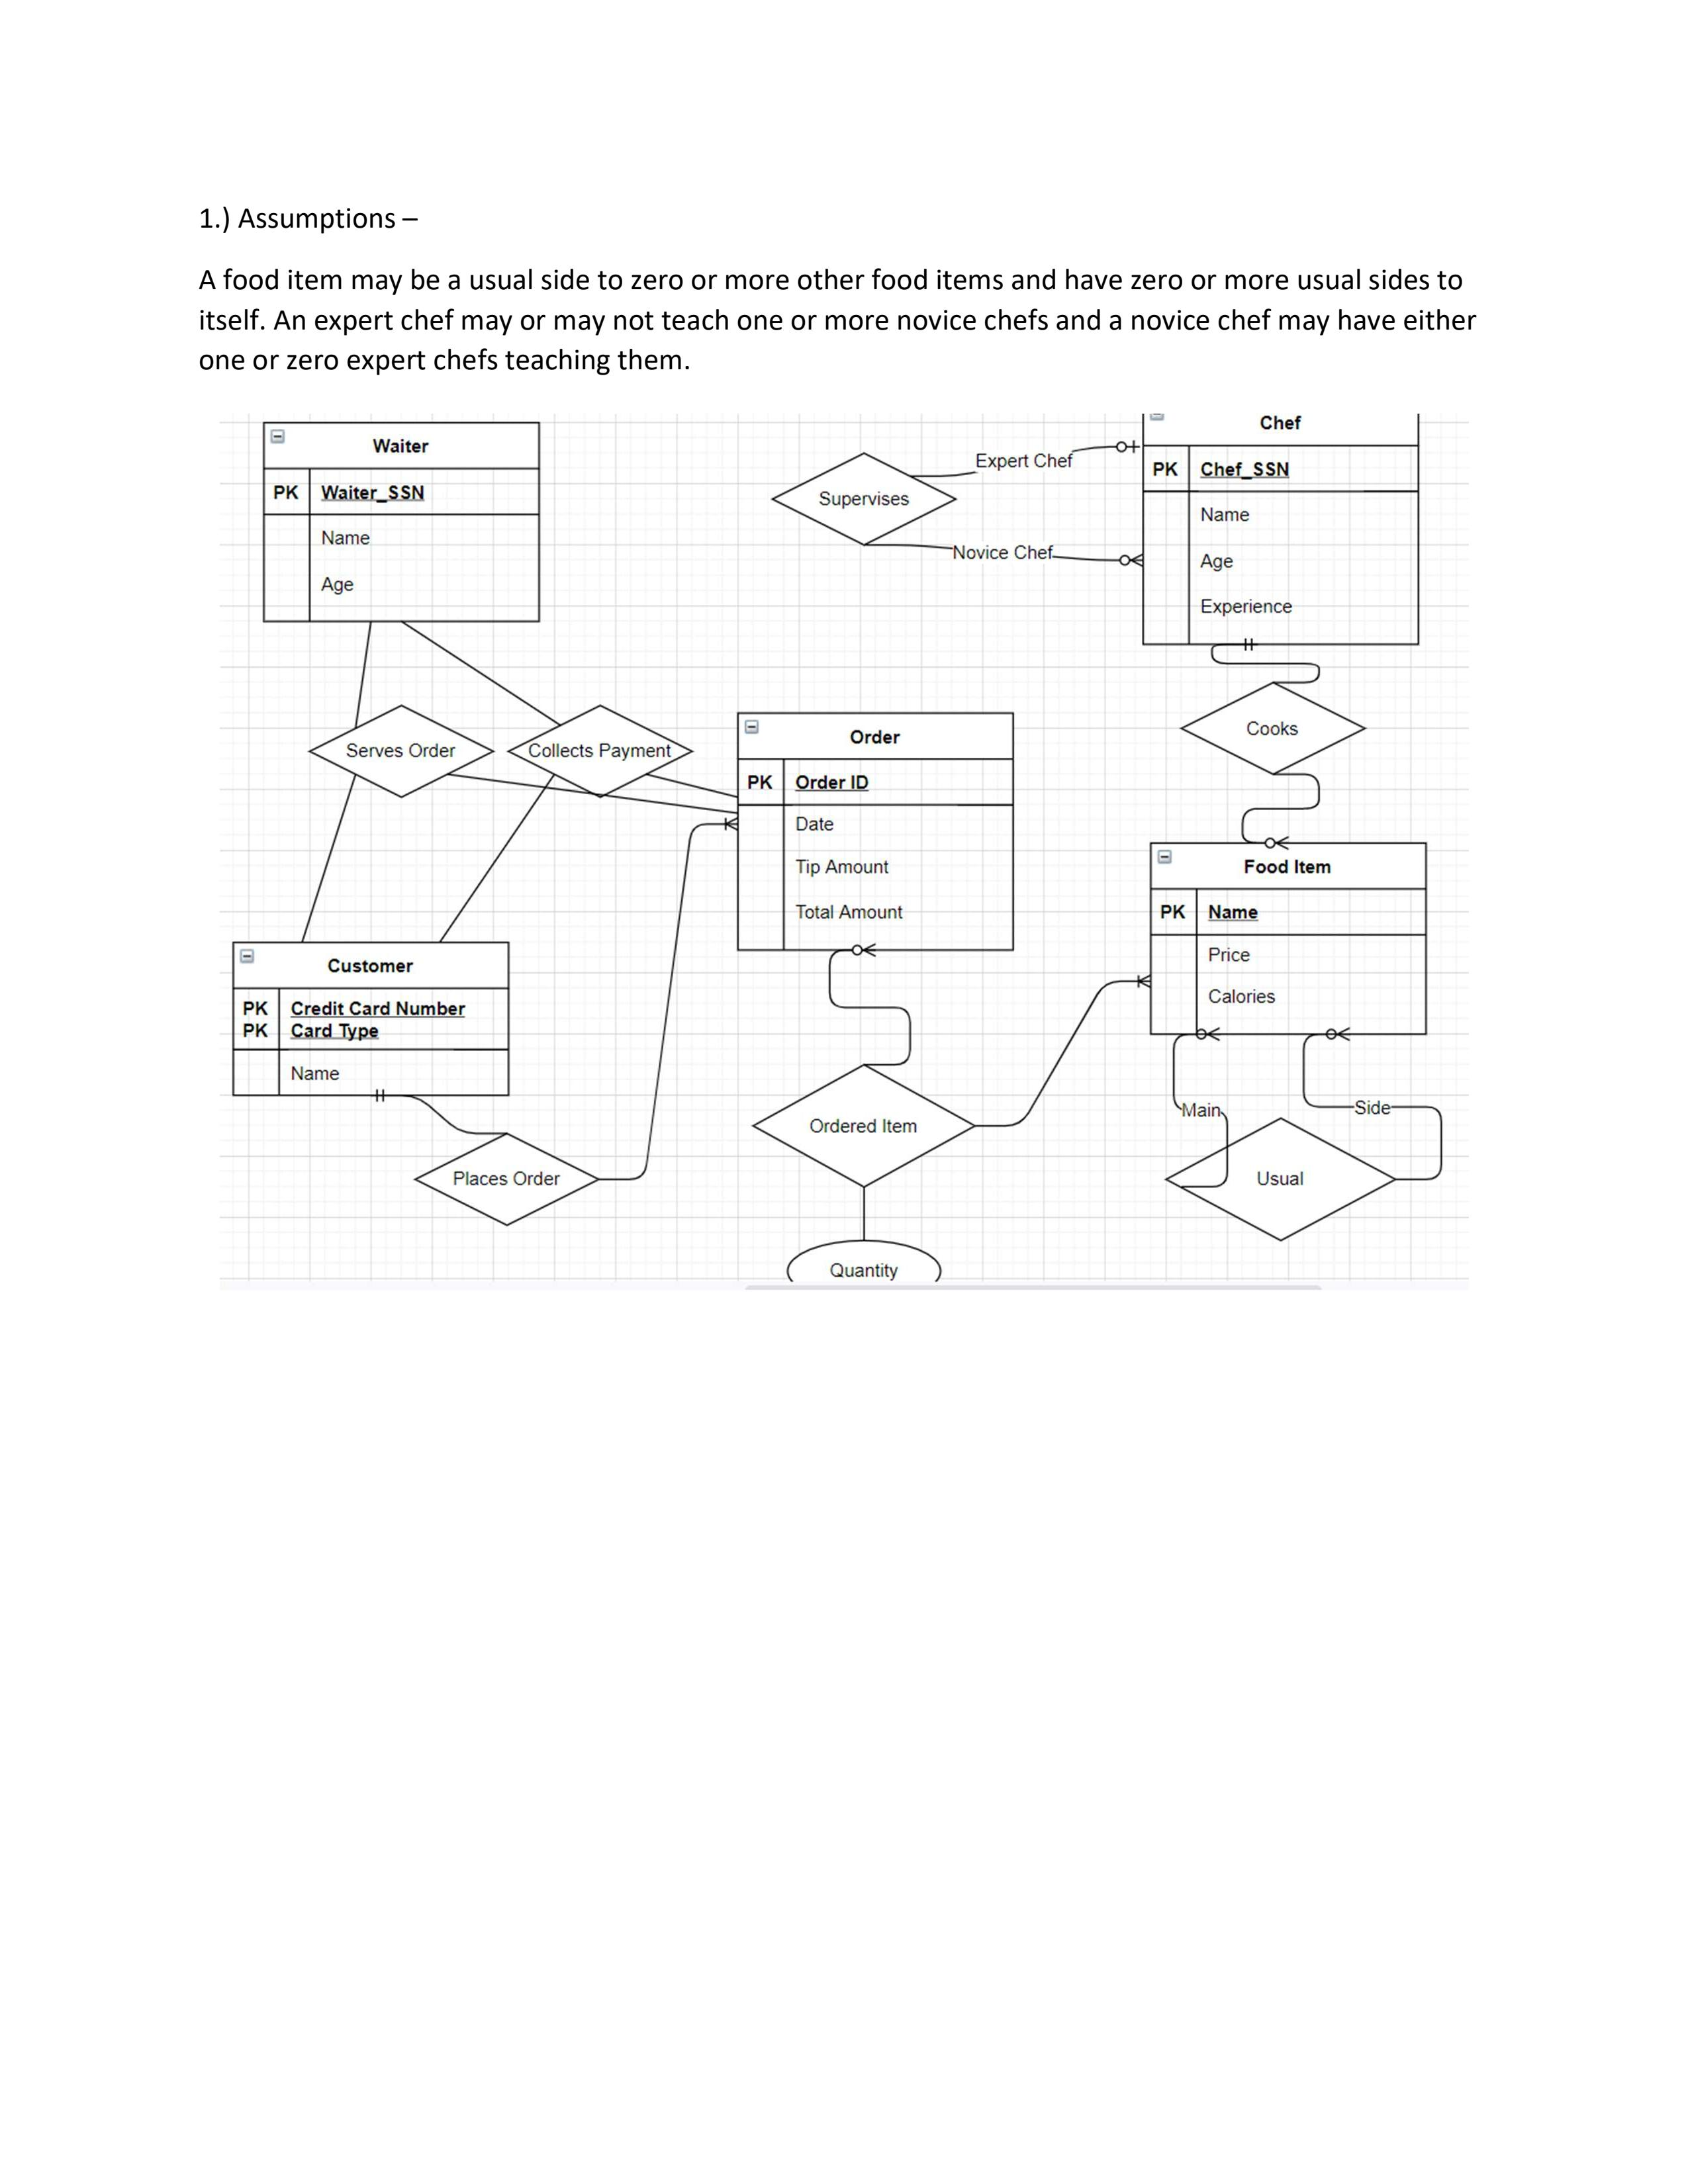Attribute: (787, 1239, 943, 1287)
Entity: (734, 707, 1020, 952), (1140, 406, 1422, 647), (261, 418, 544, 629), (1145, 837, 1431, 1039), (232, 934, 512, 1104)
Relationship: (752, 1062, 975, 1184), (1170, 1119, 1395, 1237), (305, 702, 496, 799), (771, 450, 959, 548), (507, 704, 699, 798), (1176, 681, 1367, 775), (413, 1135, 594, 1225)
